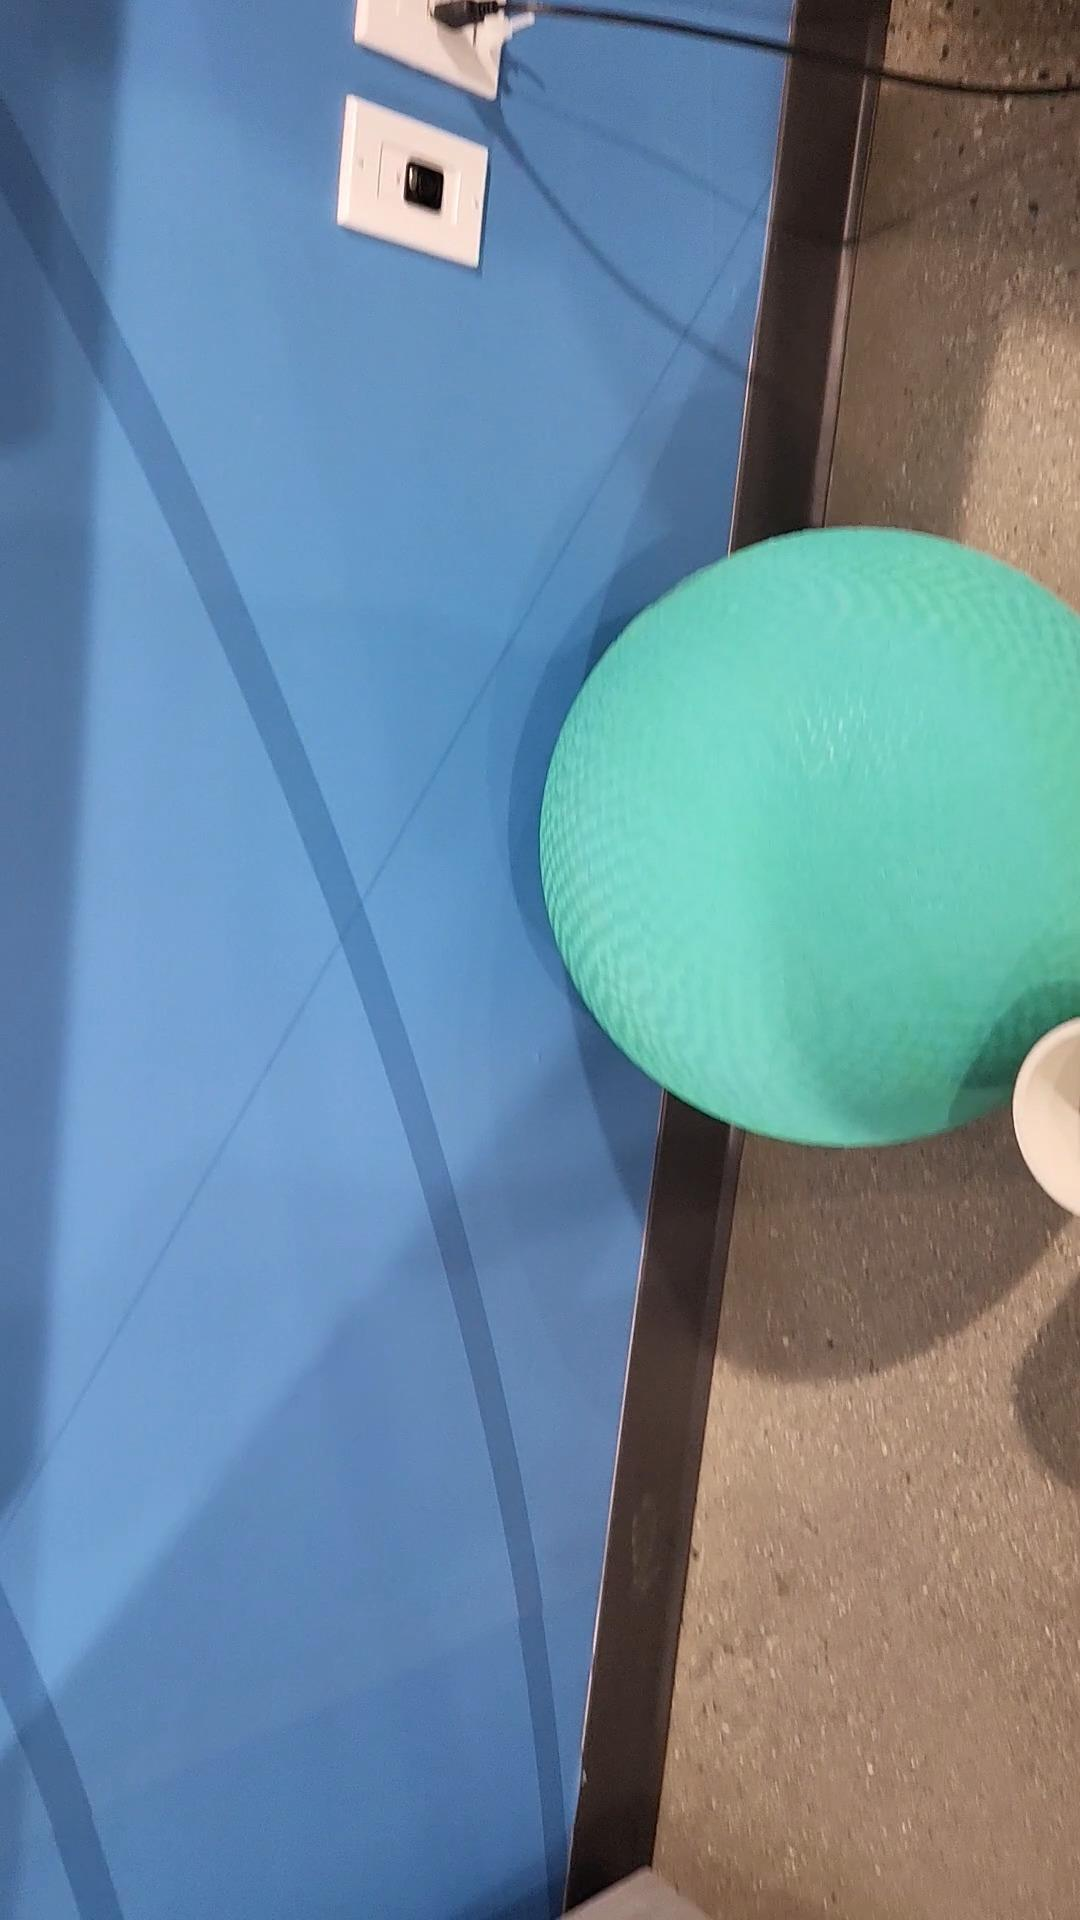algae: (541, 530, 1080, 1147)
coral: (1018, 1013, 1080, 1208)
